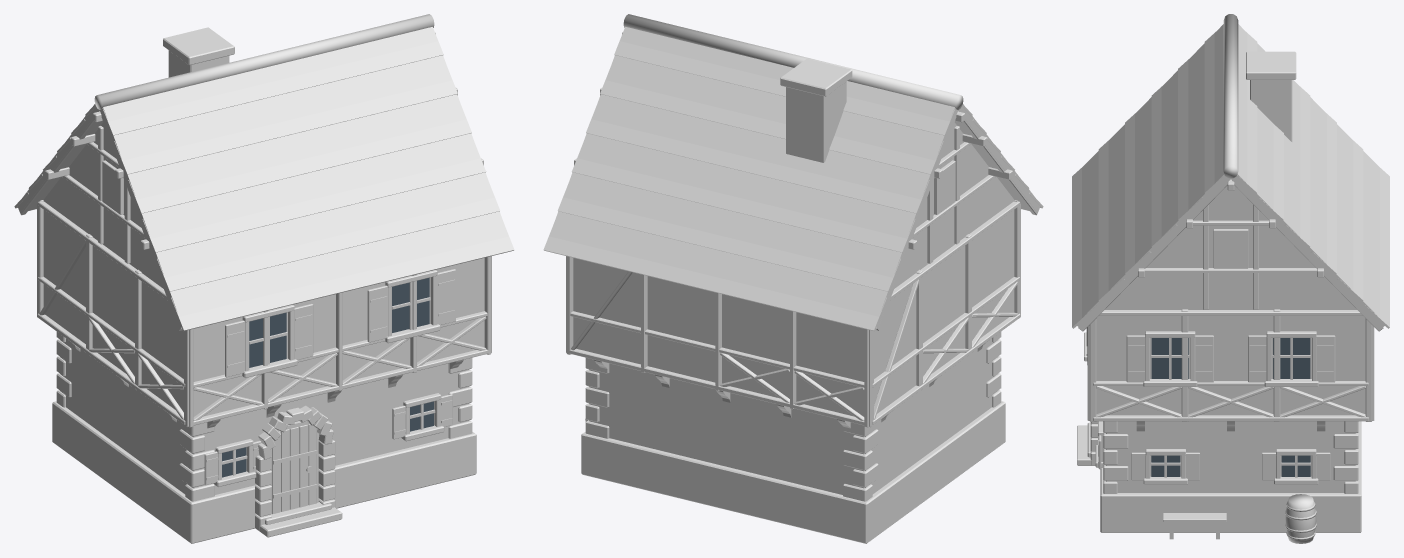
File: col_01_bourgeoise_tuiles.fbx
3 renders of one model, left to right at view 1: azimuth 30°, elevation 25°; view 2: azimuth 150°, elevation 25°; view 3: azimuth 270°, elevation 25°, orthographic. The views are drawn at different scales.
Parts seen in each view (by area): view 1: col_01_bourgeoise_tuiles_LOD0; view 2: col_01_bourgeoise_tuiles_LOD0; view 3: col_01_bourgeoise_tuiles_LOD0.
Boxes of the visible parts, x1,y1,x2,y2 form: col_01_bourgeoise_tuiles_LOD0: (14,14,514,543); col_01_bourgeoise_tuiles_LOD0: (543,14,1043,543); col_01_bourgeoise_tuiles_LOD0: (1072,14,1389,543).
Size of what is drawn, in the model's own units: 7.64 by 8.83 by 6.59.
